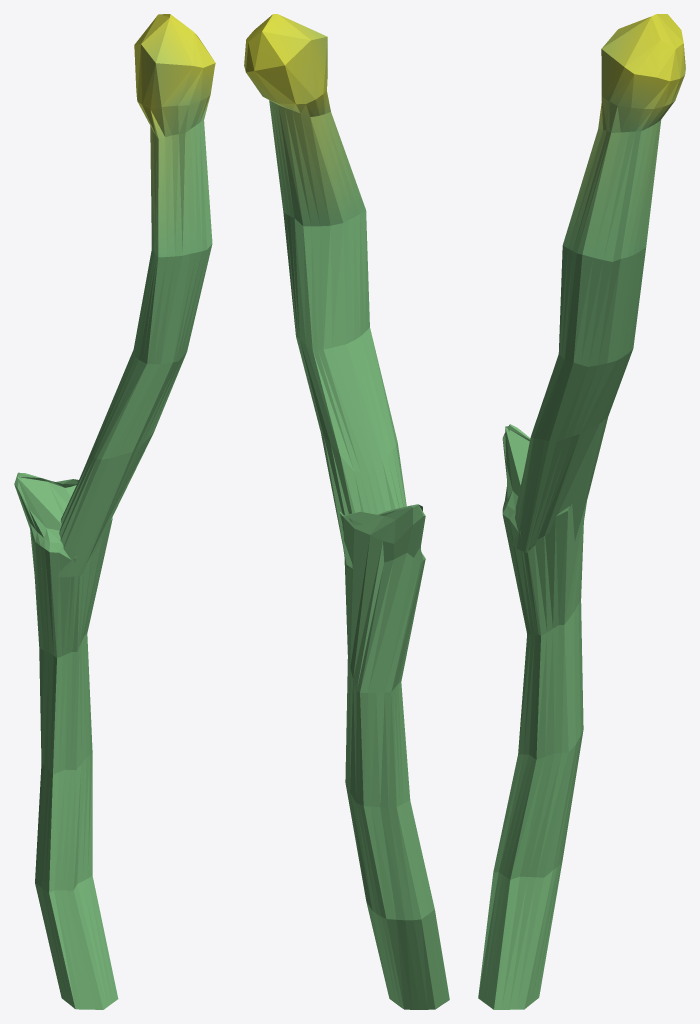
The model's file is Stem1.glb.
The picture shows the model from 3 angles, left to right: view 1: azimuth 30°, elevation 25°; view 2: azimuth 150°, elevation 25°; view 3: azimuth 330°, elevation 25°; orthographic projection. The views are drawn at different scales.
Parts seen in each view (by area): view 1: Mesh_Mesh_head_geo.001_lambert2SG.002; view 2: Mesh_Mesh_head_geo.001_lambert2SG.002; view 3: Mesh_Mesh_head_geo.001_lambert2SG.002.
Boxes of the visible parts, x1,y1,x2,y2 form: Mesh_Mesh_head_geo.001_lambert2SG.002: [14, 14, 215, 1009]; Mesh_Mesh_head_geo.001_lambert2SG.002: [244, 14, 449, 1009]; Mesh_Mesh_head_geo.001_lambert2SG.002: [478, 14, 685, 1009].
Size of the model in its own units: 20.64 by 103 by 12.99.
